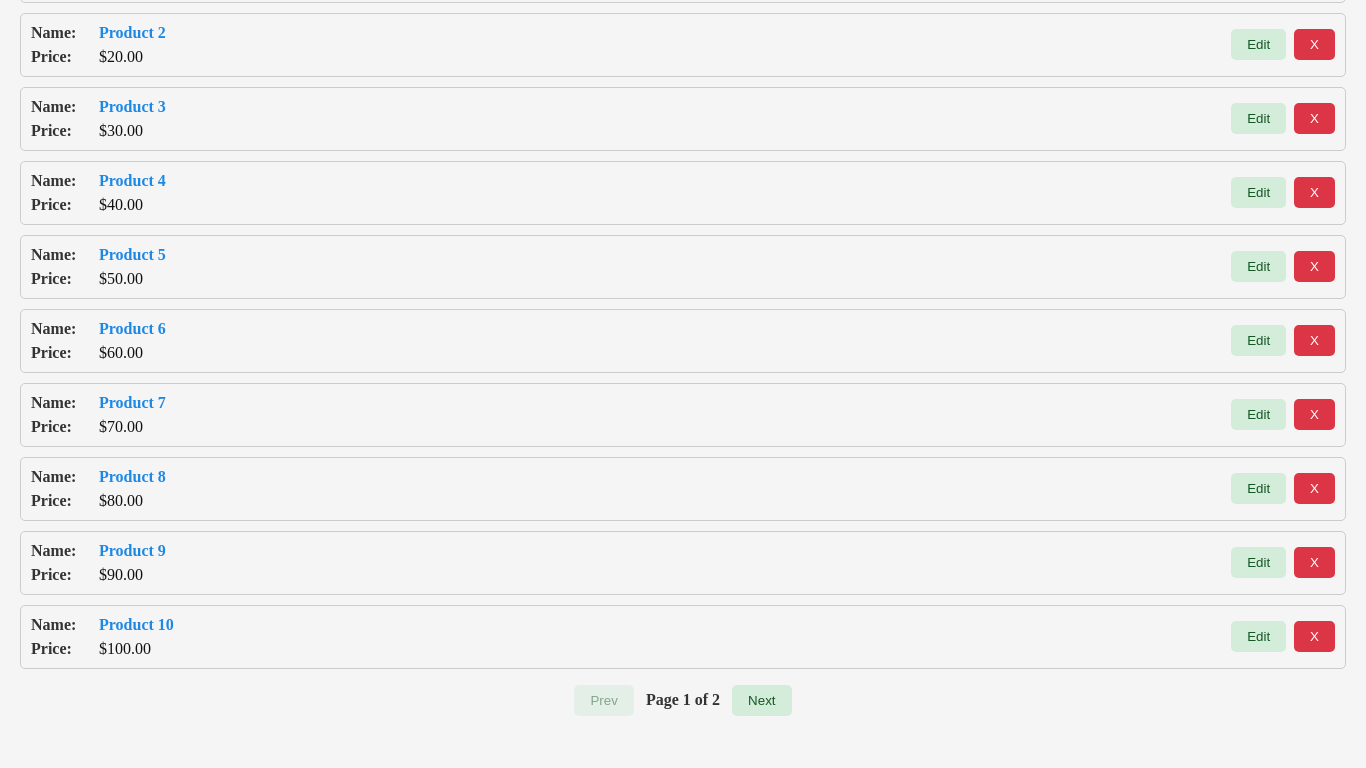
Test case: ProductDashboard › Pagination Tests › should navigate to next page when Next button is clicked
(page scrolled)
Click the button "Next" at (762, 700), box [732,685,792,716]
(page scrolled)
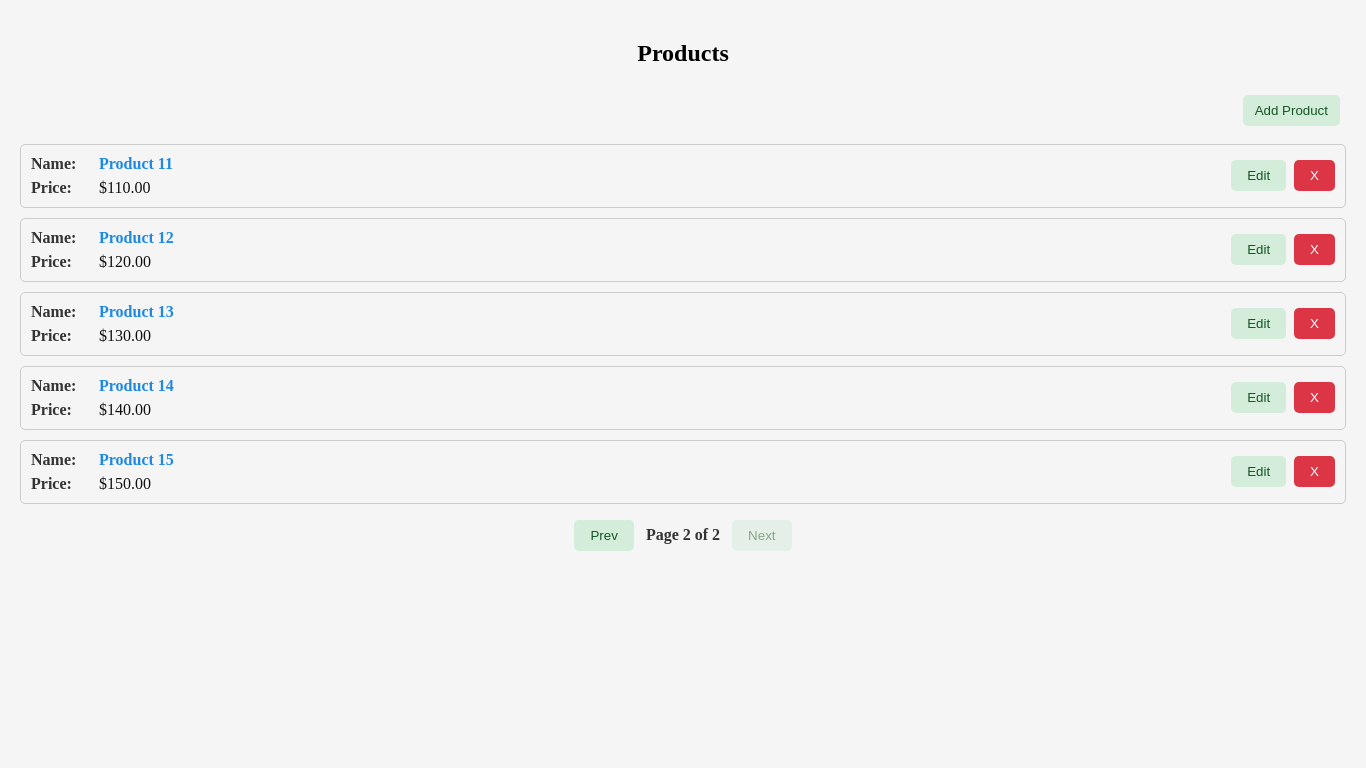
Result: the text "Page 2 of 2" is shown at [646,526,720,544]
